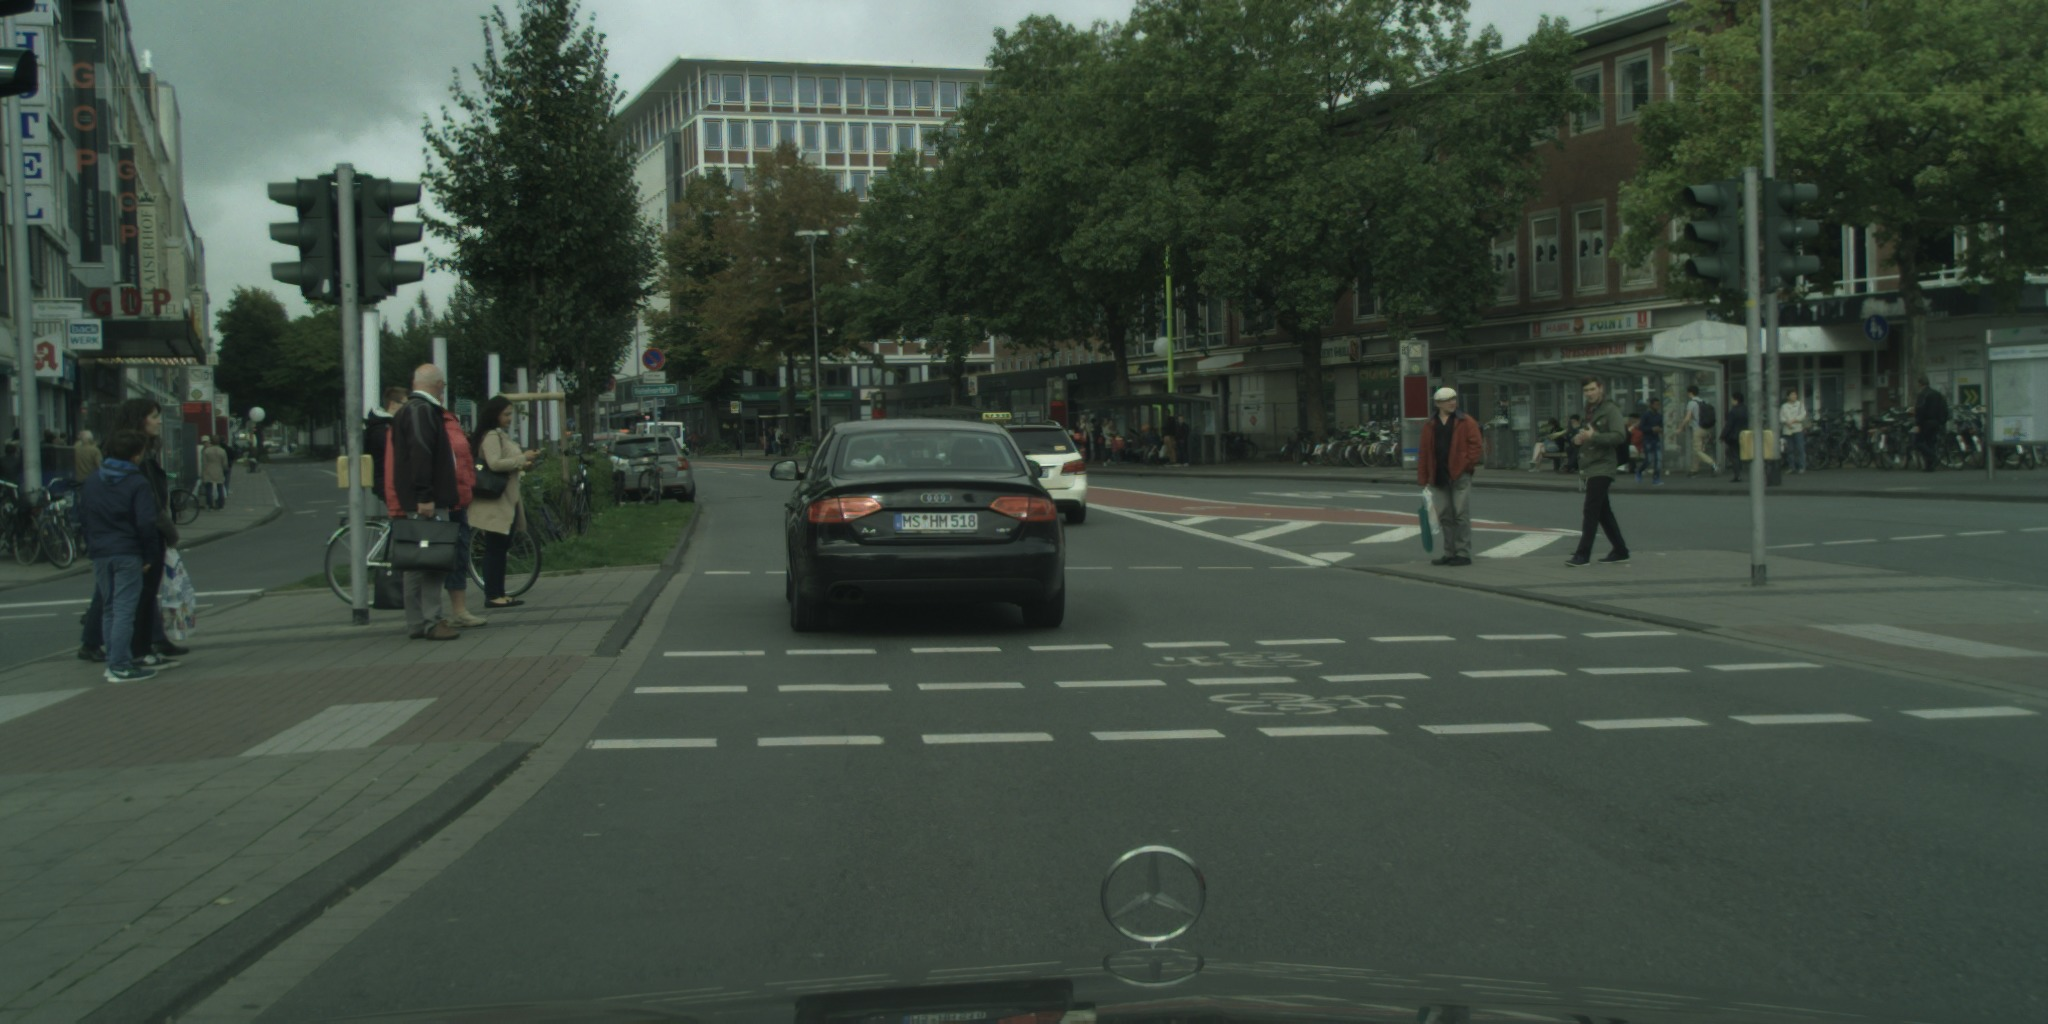bicycle: (323, 496, 544, 609), (21, 477, 78, 569), (0, 479, 42, 569), (524, 476, 573, 547), (160, 472, 200, 526), (572, 451, 596, 536), (606, 451, 640, 508), (638, 453, 665, 507)
car: (768, 418, 1067, 634), (963, 412, 1088, 524), (605, 432, 696, 511), (564, 431, 634, 466), (634, 422, 687, 459), (583, 435, 643, 460)
person: (372, 381, 488, 628), (104, 397, 198, 675), (76, 432, 188, 665), (79, 424, 163, 685), (389, 363, 462, 641), (459, 394, 540, 609), (1562, 377, 1629, 567), (1417, 387, 1481, 566), (359, 386, 408, 532), (1670, 384, 1723, 478), (1916, 373, 1952, 472), (71, 429, 105, 524), (1717, 389, 1751, 482), (1776, 390, 1808, 477), (1636, 398, 1666, 486), (200, 432, 230, 512), (1528, 414, 1568, 474), (1612, 413, 1644, 475), (209, 431, 236, 497), (192, 434, 215, 500), (31, 426, 73, 461), (1159, 407, 1179, 466), (1103, 416, 1124, 465), (1566, 413, 1583, 473), (1091, 416, 1107, 465), (1073, 414, 1091, 462), (1142, 425, 1162, 463), (1176, 414, 1189, 466), (1124, 426, 1142, 462), (1099, 414, 1111, 457), (774, 426, 790, 457), (766, 427, 777, 455)
